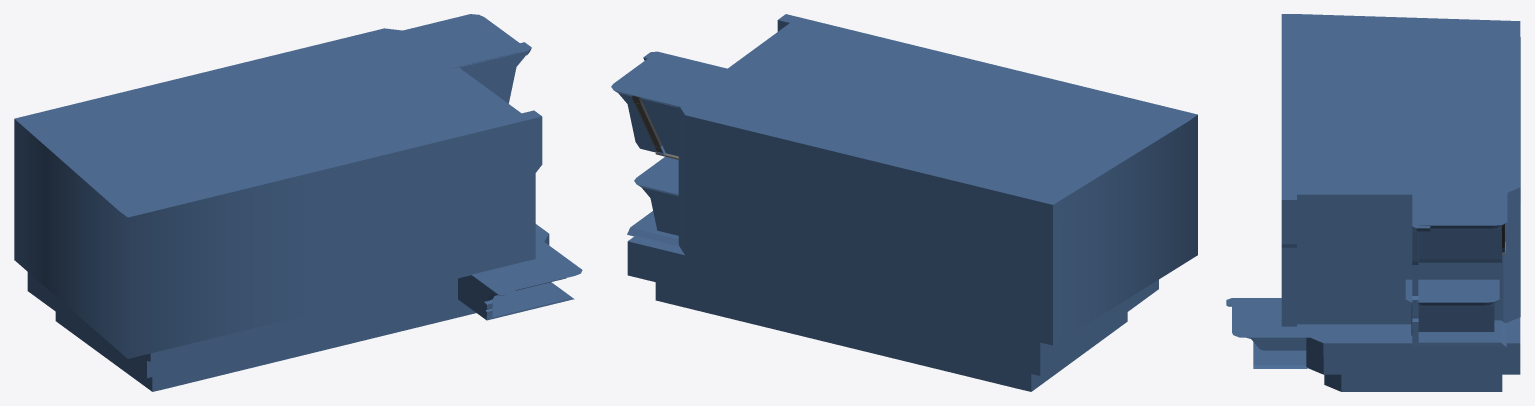
The model's file is 實驗室往上平台.fbx.
3 renders of one model, left to right at view 1: azimuth 30°, elevation 25°; view 2: azimuth 150°, elevation 25°; view 3: azimuth 270°, elevation 25°, orthographic. The views are drawn at different scales.
Visible parts, largest first — view 1: platformLAB9.002, platformLAB9.001, platformLAB9__1_; view 2: platformLAB9.002, platformLAB9.001, platformLAB9__1_, platformLAB9_1, KB3D_HTS_Supporter_A_Main; view 3: platformLAB9.001, platformLAB9.002, platformLAB9__1_, platformLAB9_1.
Boxes of the visible parts, box(x1,y1,x2,y2) form: platformLAB9.002: box(14, 73, 328, 358); platformLAB9.001: box(199, 14, 542, 309); platformLAB9__1_: box(27, 224, 582, 391); platformLAB9.002: box(869, 66, 1197, 345); platformLAB9.001: box(611, 14, 997, 300); platformLAB9__1_: box(627, 235, 1158, 391); platformLAB9_1: box(634, 156, 678, 235); KB3D_HTS_Supporter_A_Main: box(632, 95, 679, 159); platformLAB9.001: box(1281, 104, 1520, 347); platformLAB9.002: box(1281, 14, 1520, 119); platformLAB9__1_: box(1226, 298, 1520, 391); platformLAB9_1: box(1405, 279, 1499, 335).
Size of the model in its own units: 6756 by 2752 by 3917.
